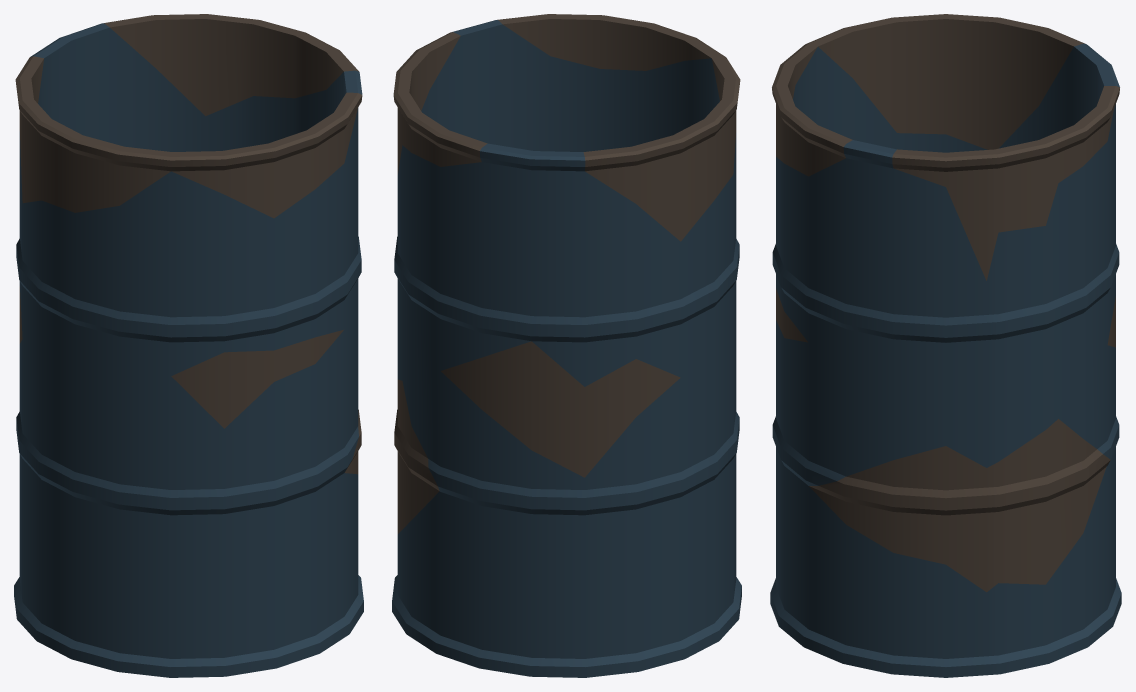
Rendered from barrel.glb.
The picture shows the model from 3 angles, left to right: view 1: azimuth 30°, elevation 25°; view 2: azimuth 150°, elevation 25°; view 3: azimuth 270°, elevation 25°; orthographic projection.
Visible parts, largest first — view 1: Barrel; view 2: Barrel; view 3: Barrel.
Part boxes in pixels (x1,y1,x2,y2): Barrel: (14,14,363,677); Barrel: (392,14,741,677); Barrel: (770,14,1121,677).
Bounding box in the file's own units: 0.7041 × 1.14 × 0.7041.
